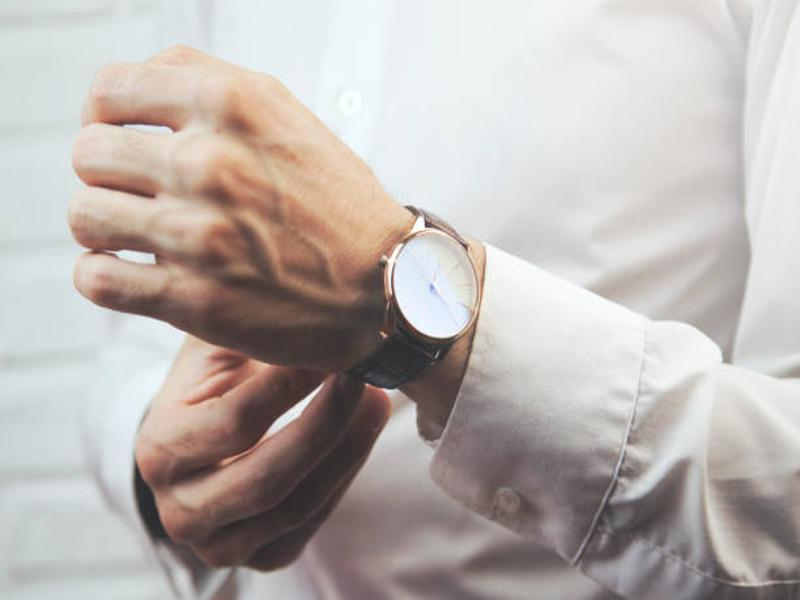watch: (341, 203, 482, 390)
